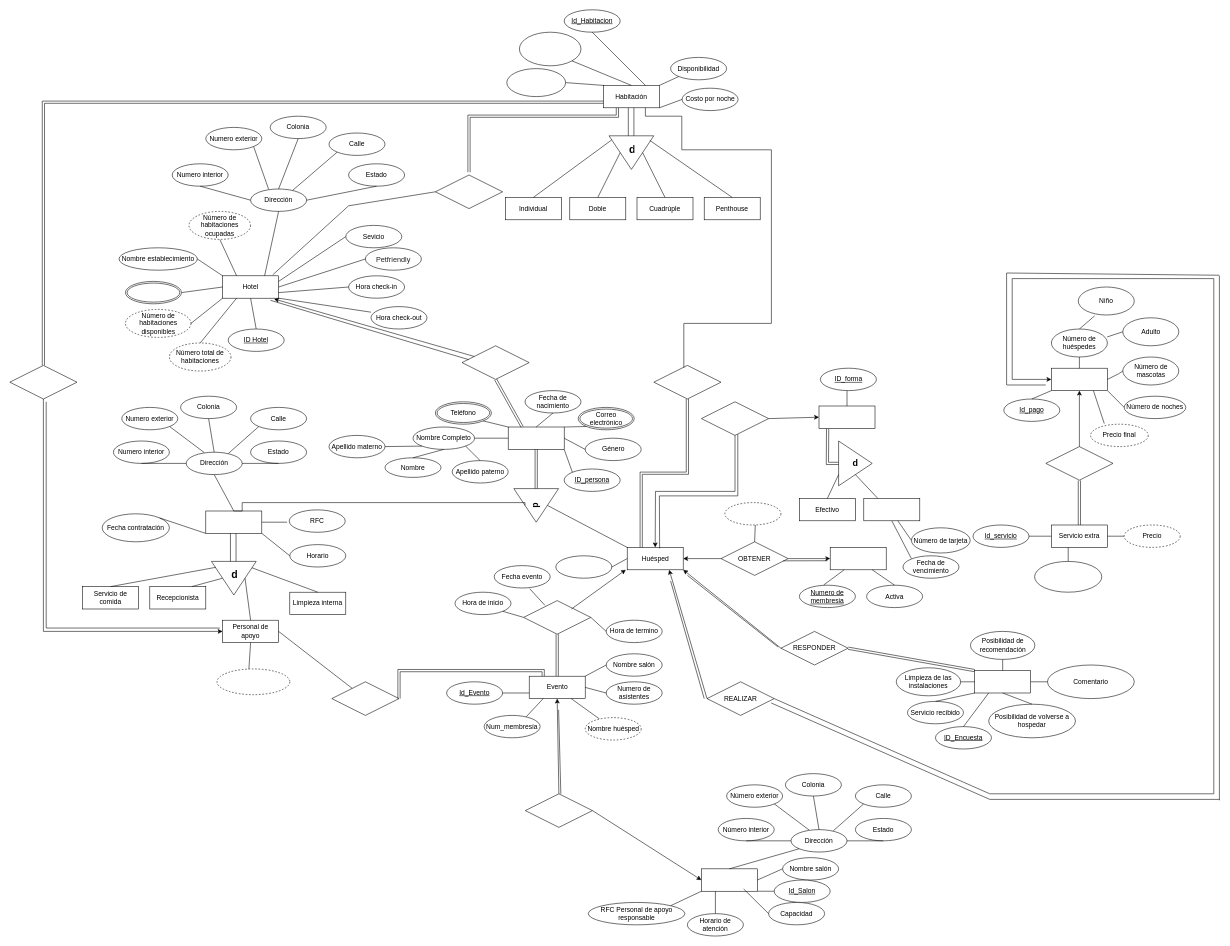
Some shapes in this 1230 by 946 pixel diagram are drawn without their labels. The box of each missing label's shape, as (x1, y1, x2, y2) in pixels:
AGREGAR: (1045, 446, 1113, 480)
ATENDER: (331, 681, 399, 715)
DISPONER: (435, 174, 503, 209)
ELEGIR: (701, 401, 769, 435)
Empleado: (205, 510, 262, 533)
Encuesta: (974, 670, 1031, 693)
Forma de pago: (818, 405, 875, 428)
Membresia: (830, 547, 886, 570)
Nacionalidad: (555, 555, 612, 578)
Número de camas: (519, 32, 581, 66)
Número de habitaciones a cargo: (216, 668, 290, 695)
Número de habitación: (506, 68, 566, 97)
Número de platos: (1034, 561, 1102, 592)
Pago: (1051, 368, 1107, 391)
Persona: (508, 426, 564, 449)
RENTAR: (653, 365, 721, 399)
RESERVAR: (523, 600, 591, 634)
Salon: (701, 868, 757, 891)
Ser Responsable: (9, 365, 77, 399)
Tarjeta: (863, 498, 920, 521)
Telefono: (125, 281, 181, 304)
TENER: (461, 345, 529, 379)
VALIDAR: (525, 793, 592, 827)
Visitas por año: (724, 502, 781, 525)
